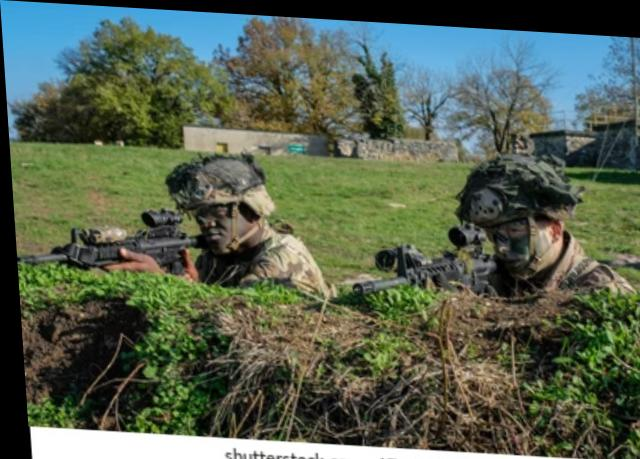other: (416, 141, 629, 298), (104, 148, 336, 284)
